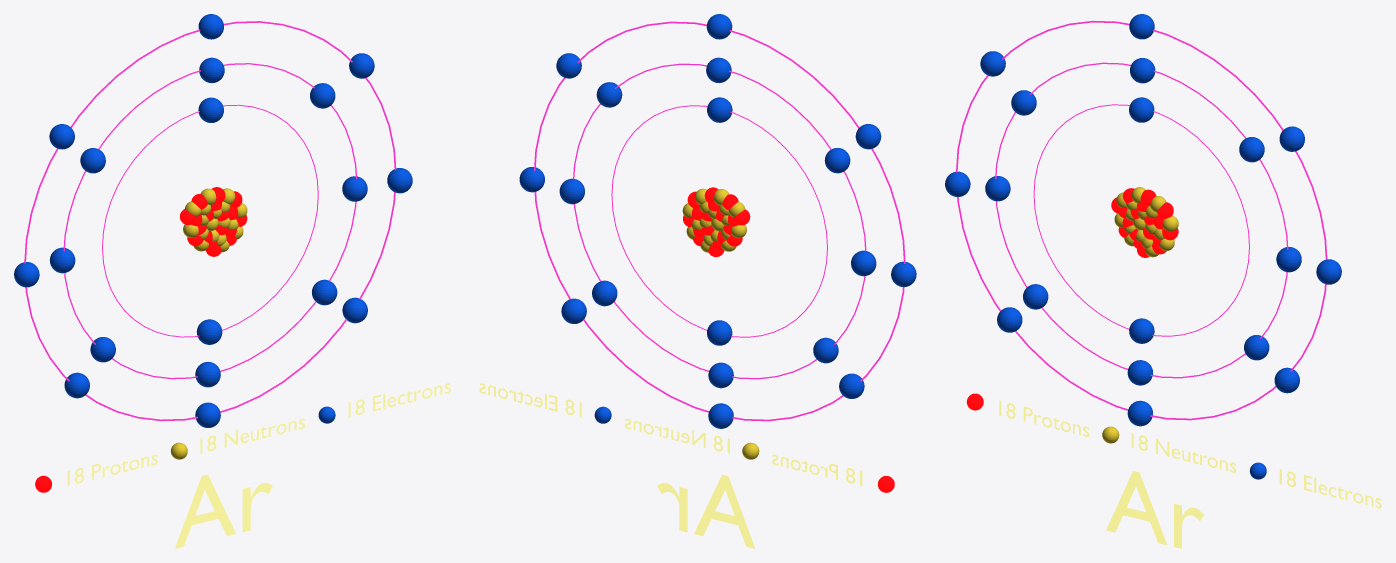
File: argon.glb
The picture shows the model from 3 angles, left to right: view 1: azimuth 30°, elevation 25°; view 2: azimuth 150°, elevation 25°; view 3: azimuth 330°, elevation 25°; orthographic projection.
Visible parts, largest first — view 1: BézierCircle.002, Text, BézierCircle.001, BézierCircle, Text.003, Text.002, Text.001, Sphere.009, Sphere.016, Sphere.033, Sphere.048, Sphere.001 (+13 smaller); view 2: BézierCircle.002, Text, BézierCircle.001, BézierCircle, Text.002, Text.003, Text.001, Sphere.009, Sphere.016, Sphere.030, Sphere.048, Sphere.026 (+13 smaller); view 3: BézierCircle.002, Text, BézierCircle.001, BézierCircle, Text.003, Text.002, Text.001, Sphere.037, Sphere.039, Sphere.020, Sphere.026, Sphere.050 (+13 smaller).
Boxes of the visible parts, <box> form: BézierCircle.002: <box>24,21,396,421</box>; Text: <box>174,474,272,548</box>; BézierCircle.001: <box>63,63,357,379</box>; BézierCircle: <box>102,104,318,337</box>; Text.003: <box>348,383,450,417</box>; Text.002: <box>200,418,305,453</box>; Text.001: <box>67,454,157,485</box>; Sphere.009: <box>342,176,367,201</box>; Sphere.016: <box>49,247,75,273</box>; Sphere.033: <box>14,262,39,287</box>; Sphere.048: <box>49,124,74,149</box>; Sphere.001: <box>196,319,222,344</box>; BézierCircle.002: <box>534,21,905,421</box>; Text: <box>657,474,755,548</box>; BézierCircle.001: <box>573,63,866,379</box>; BézierCircle: <box>611,105,827,337</box>; Text.002: <box>625,419,729,453</box>; Text.003: <box>479,383,581,417</box>; Text.001: <box>772,454,862,485</box>; Sphere.009: <box>559,178,584,204</box>; Sphere.016: <box>851,250,876,276</box>; Sphere.030: <box>592,280,617,306</box>; Sphere.048: <box>855,124,881,149</box>; Sphere.026: <box>824,148,850,173</box>; BézierCircle.002: <box>956,20,1327,420</box>; Text: <box>1106,471,1203,548</box>; BézierCircle.001: <box>995,62,1288,378</box>; BézierCircle: <box>1033,104,1249,336</box>; Text.003: <box>1279,469,1381,508</box>; Text.002: <box>1131,433,1236,472</box>; Text.001: <box>999,400,1089,436</box>; Sphere.037: <box>997,307,1022,332</box>; Sphere.039: <box>1316,259,1341,284</box>; Sphere.020: <box>1023,284,1048,309</box>; Sphere.026: <box>1011,90,1036,115</box>; Sphere.050: <box>1129,14,1154,39</box>.
Bounding box in the file's own units: 4.72 × 5.43 × 0.2925.
